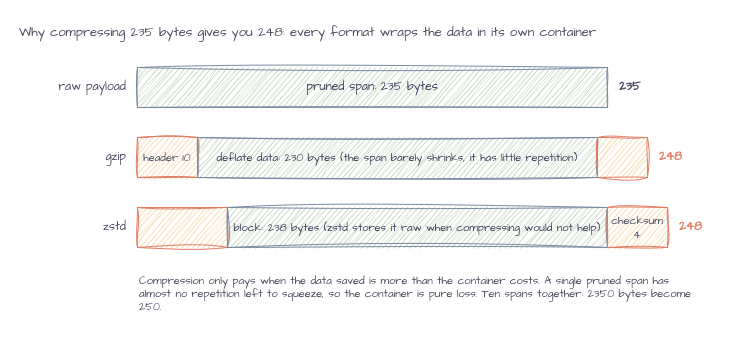
Image size: 754x344. Some labels were removed from this diagram. The centre of each missing label's shape, as x and y in pixels:
magic + header 6: point 182,227
trailer 8: point 622,157
